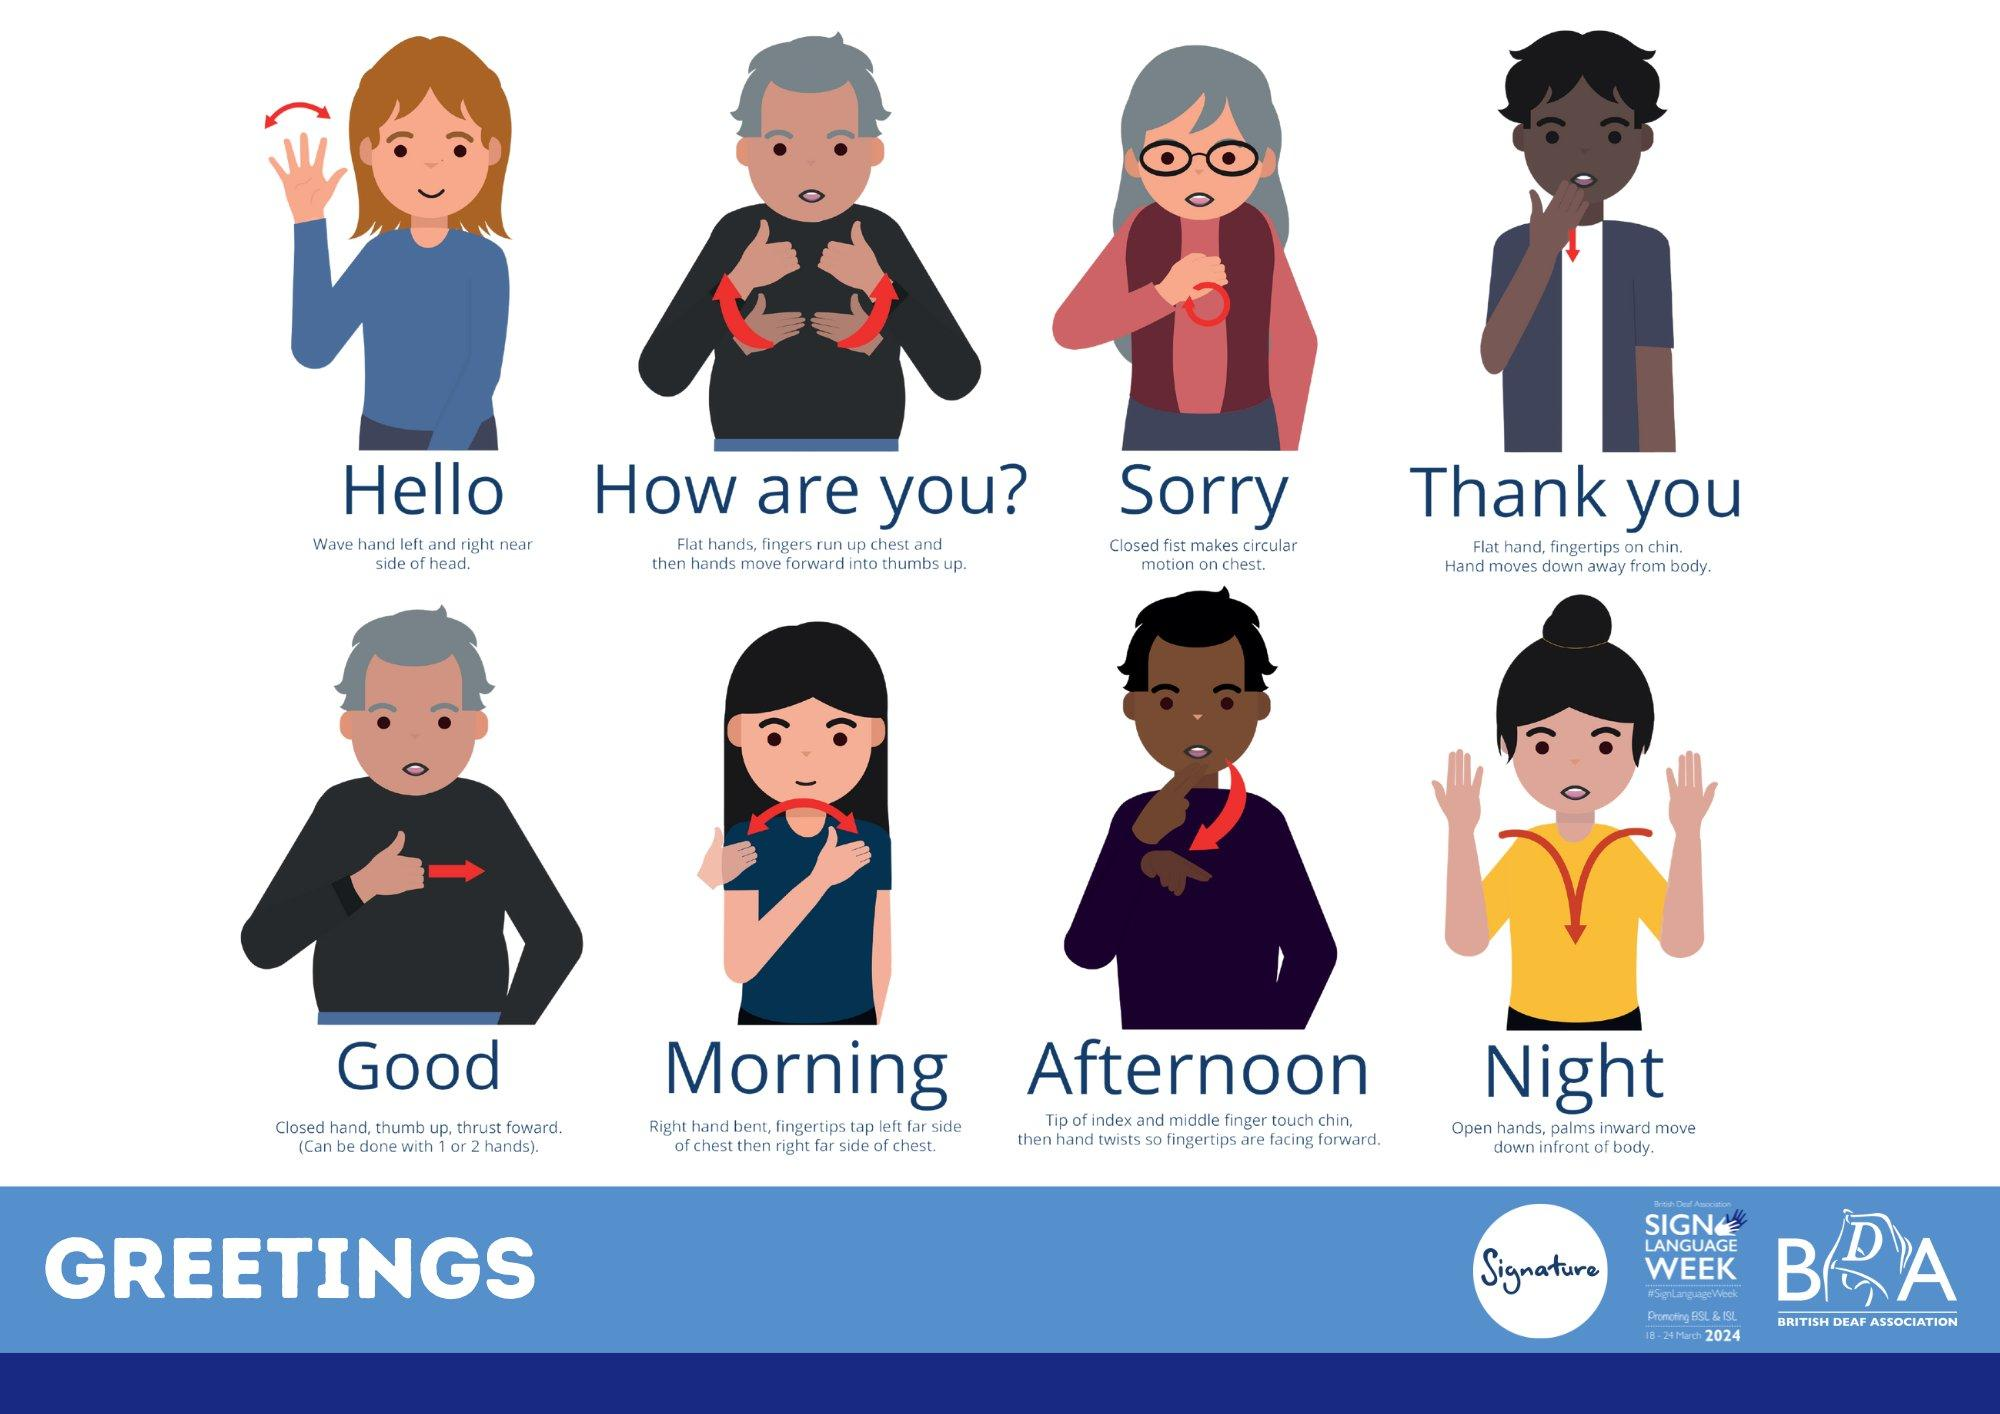Hello: (243, 130, 370, 240)
